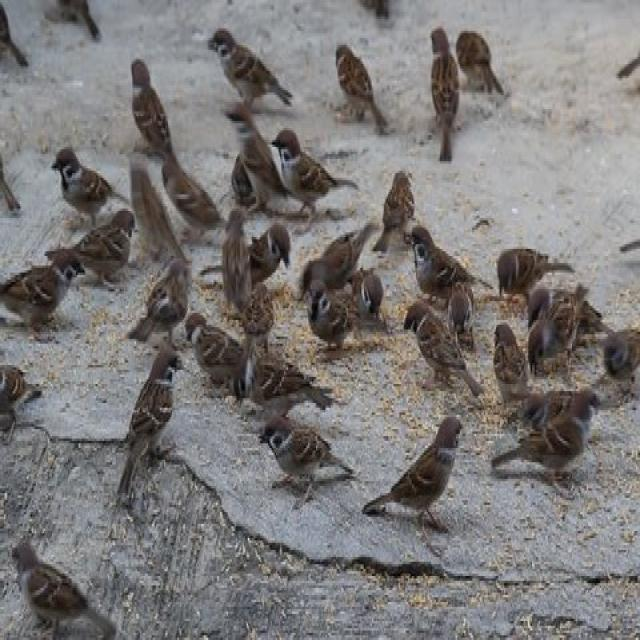bird: (358, 408, 462, 554), (247, 402, 366, 512), (1, 532, 95, 640), (116, 343, 176, 499), (126, 250, 200, 350), (268, 128, 354, 214), (403, 226, 480, 318), (47, 144, 118, 223), (488, 240, 566, 310), (187, 312, 254, 392), (330, 42, 386, 131)
